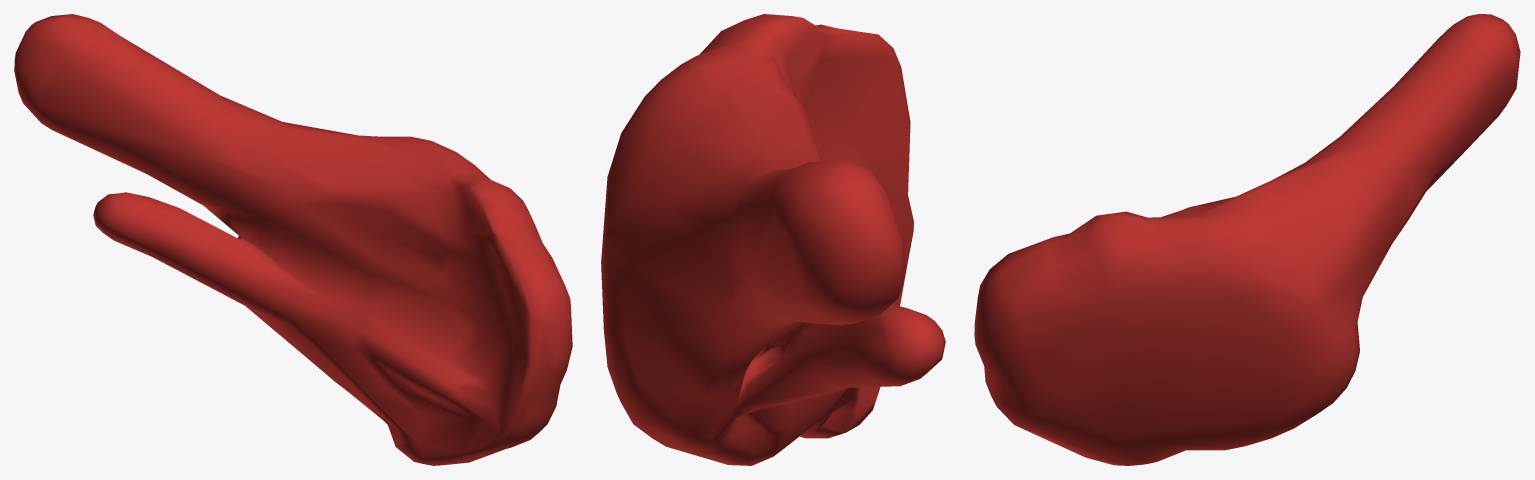
File: circulatorio-inferior-papillary-muscle-of-left-ventricle.glb
3 renders of one model, left to right at view 1: azimuth 30°, elevation 25°; view 2: azimuth 150°, elevation 25°; view 3: azimuth 270°, elevation 25°, orthographic. The views are drawn at different scales.
Parts seen in each view (by area): view 1: Inferior papillary muscle of left ventricle; view 2: Inferior papillary muscle of left ventricle; view 3: Inferior papillary muscle of left ventricle.
Part boxes in pixels (x1=…): Inferior papillary muscle of left ventricle: x1=14, y1=14, x2=572, y2=465; Inferior papillary muscle of left ventricle: x1=601, y1=14, x2=945, y2=465; Inferior papillary muscle of left ventricle: x1=974, y1=14, x2=1520, y2=465.
Bounding box in the file's own units: 0.0295 × 0.031 × 0.0437.
